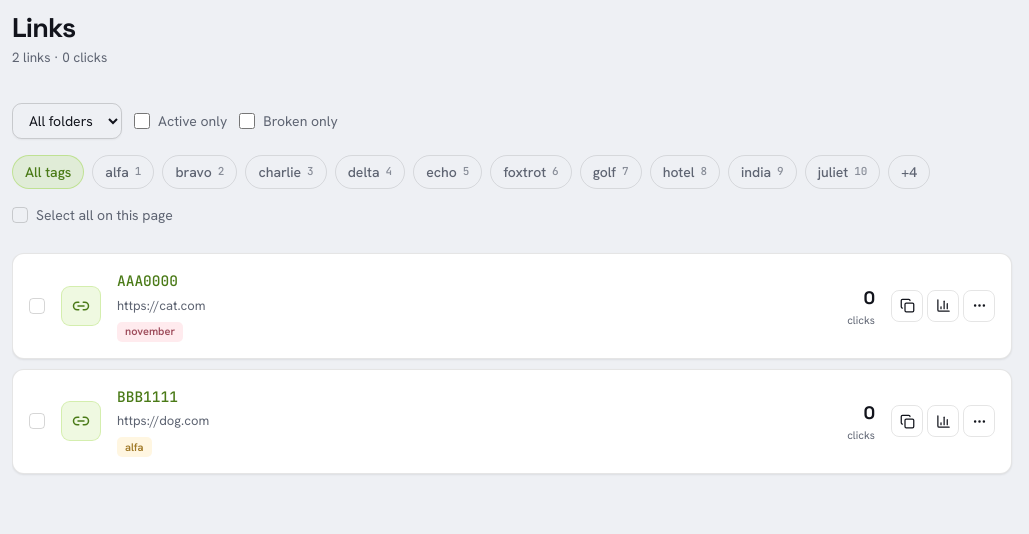
Test: Links › pins the active tag when collapsed if it's beyond the first 10, so the selection stays visible
Step 1. Click the button "+4" → (909, 172), box [888,155,930,189]
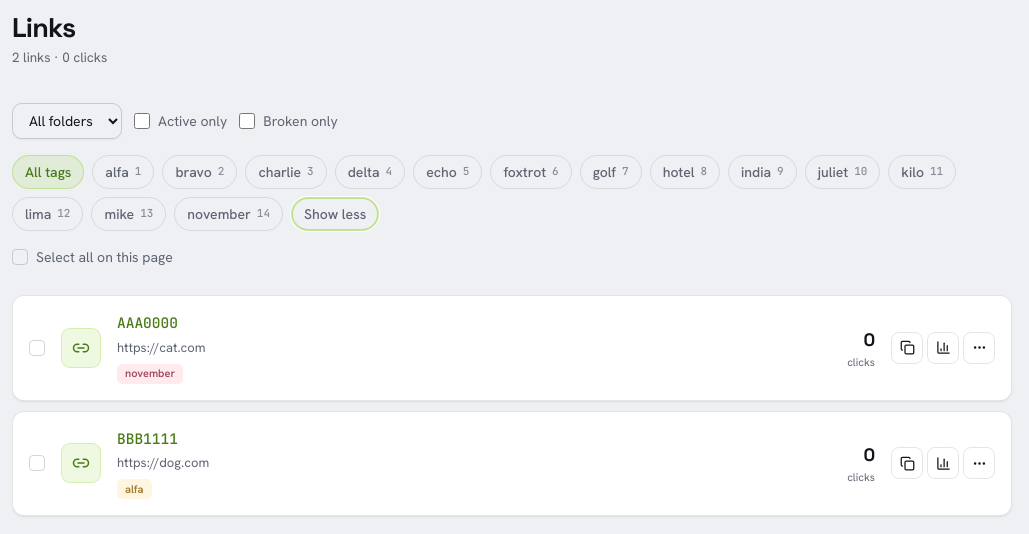
Step 2. Click the button "november 14" → (229, 214), box [174,197,283,231]
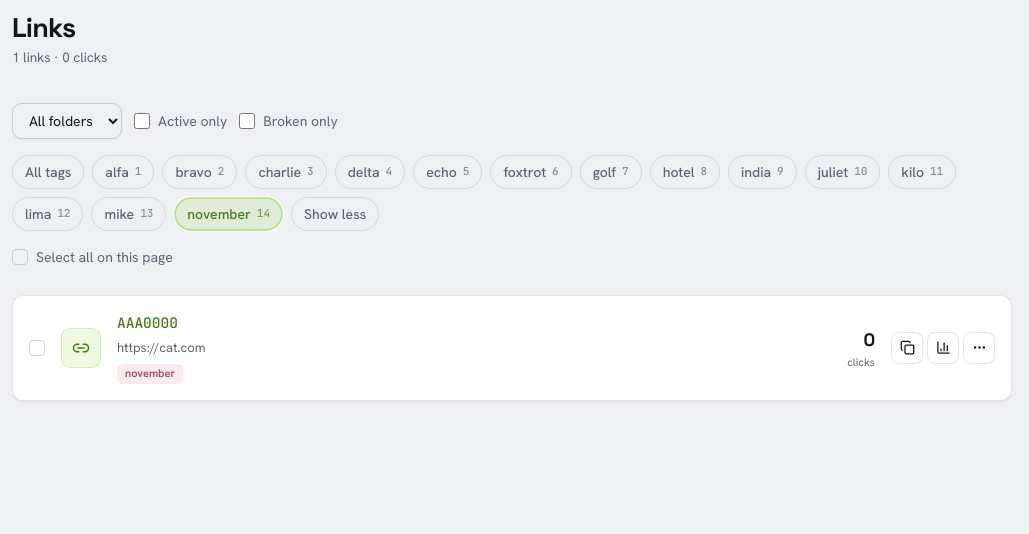
Step 3. Click the button "Show less" → (335, 214), box [291,197,379,231]
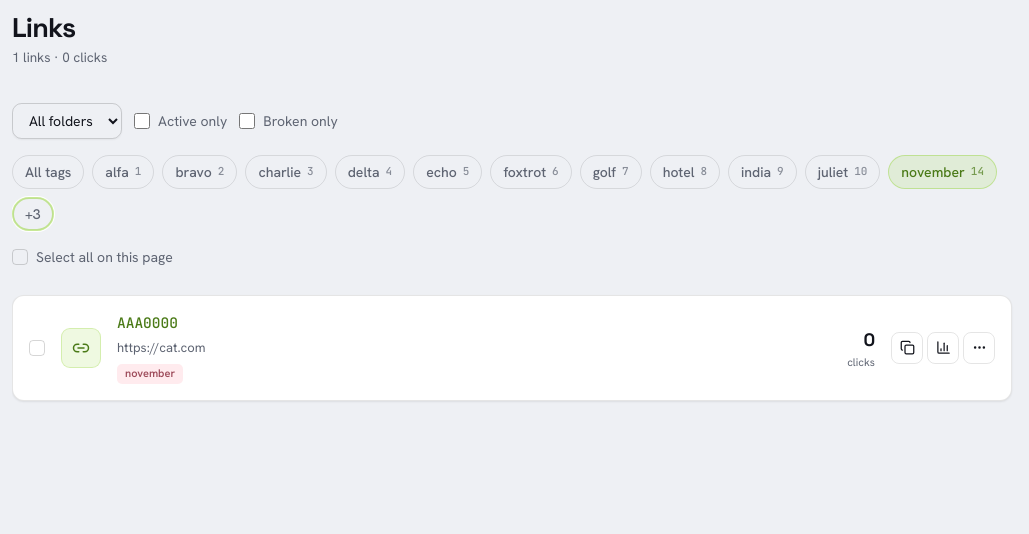
expect the button "+3" is shown: met, box [12,197,54,231]
